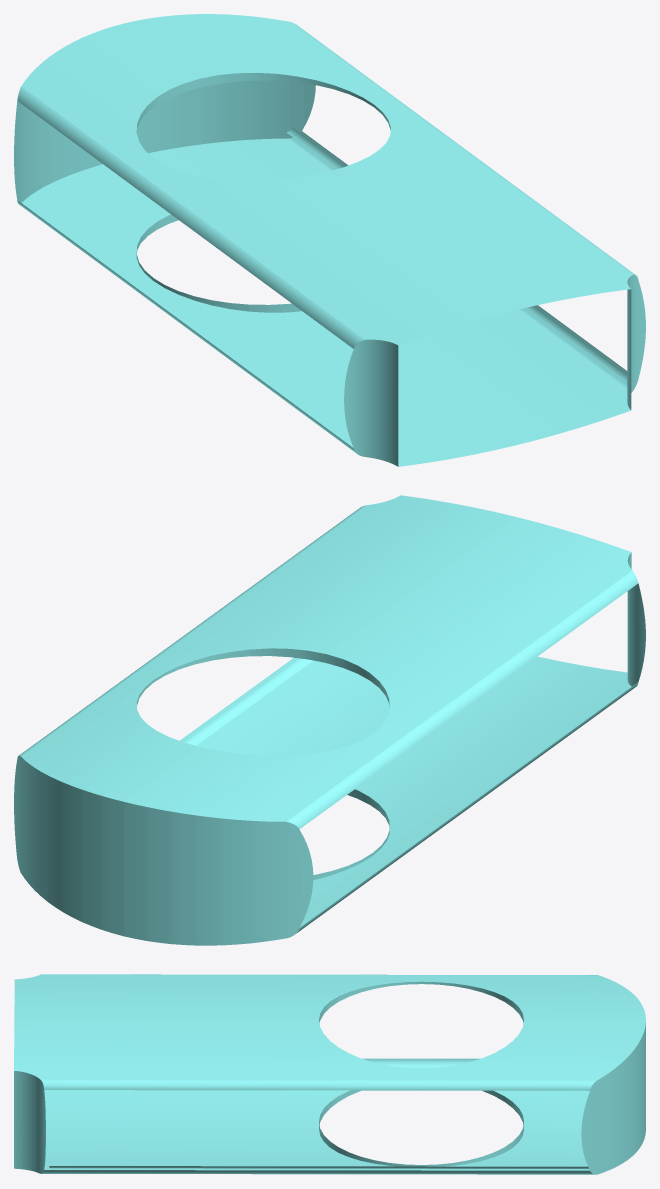
Rendered from original-11.obj.
3 views of the same model, one above another, from view 1: azimuth 30°, elevation 25°; view 2: azimuth 150°, elevation 25°; view 3: azimuth 270°, elevation 25° (orthographic). The views are drawn at different scales.
Visible parts, largest first — view 1: mesh13/mesh13-geometry#mesh13-geometry; view 2: mesh13/mesh13-geometry#mesh13-geometry; view 3: mesh13/mesh13-geometry#mesh13-geometry.
Boxes of the visible parts, x1,y1,x2,y2 form: mesh13/mesh13-geometry#mesh13-geometry: [14, 14, 645, 466]; mesh13/mesh13-geometry#mesh13-geometry: [14, 495, 645, 945]; mesh13/mesh13-geometry#mesh13-geometry: [14, 974, 645, 1174].
Bounding box in the file's own units: 0.5574 × 0.2373 × 1.25.
